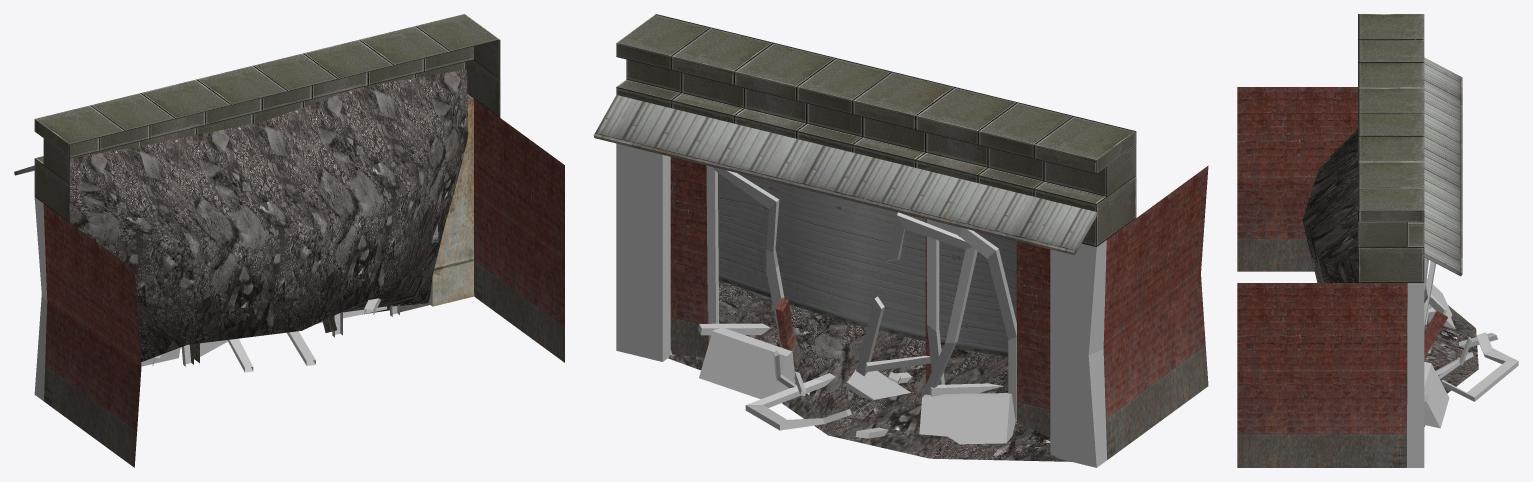
The model's file is Store_front_31.fbx.
3 views of the same model, side by side, from view 1: azimuth 30°, elevation 25°; view 2: azimuth 150°, elevation 25°; view 3: azimuth 270°, elevation 25° (orthographic). The views are drawn at different scales.
Visible parts, largest first — view 1: Store_front_31; view 2: Store_front_31; view 3: Store_front_31.
Part boxes in pixels (box(x1,y1,x2,y2)): Store_front_31: box(14, 14, 564, 467); Store_front_31: box(593, 14, 1208, 467); Store_front_31: box(1237, 14, 1518, 467).
Bounding box in the file's own units: 700 × 432 × 424.
